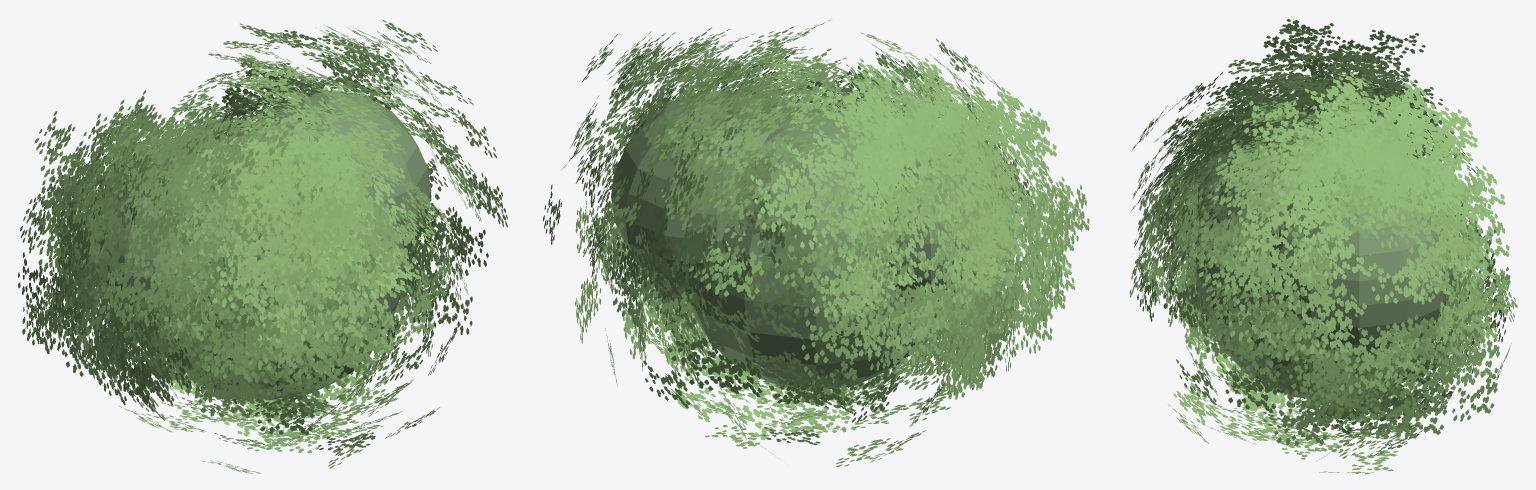
File: shrub2.fbx
3 views of the same model, side by side, from view 1: azimuth 30°, elevation 25°; view 2: azimuth 150°, elevation 25°; view 3: azimuth 270°, elevation 25° (orthographic). The views are drawn at different scales.
Parts seen in each view (by area): view 1: MASH1_ReproMesh, pSphere5; view 2: MASH1_ReproMesh, pSphere5; view 3: MASH1_ReproMesh, pSphere5.
Part boxes in pixels (x1,y1,x2,y2): MASH1_ReproMesh: (18,20,507,473); pSphere5: (89,90,431,400); MASH1_ReproMesh: (543,19,1089,467); pSphere5: (611,91,1004,389); MASH1_ReproMesh: (1129,19,1517,474); pSphere5: (1192,108,1457,398).
Bounding box in the file's own units: 8.32 × 6.74 × 6.66.
